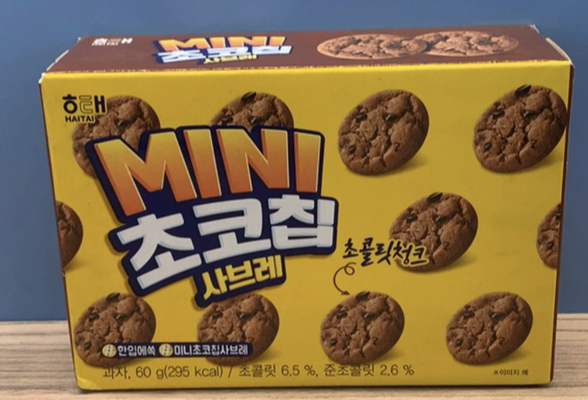cookies_1g-99g: (63, 90, 543, 380)
